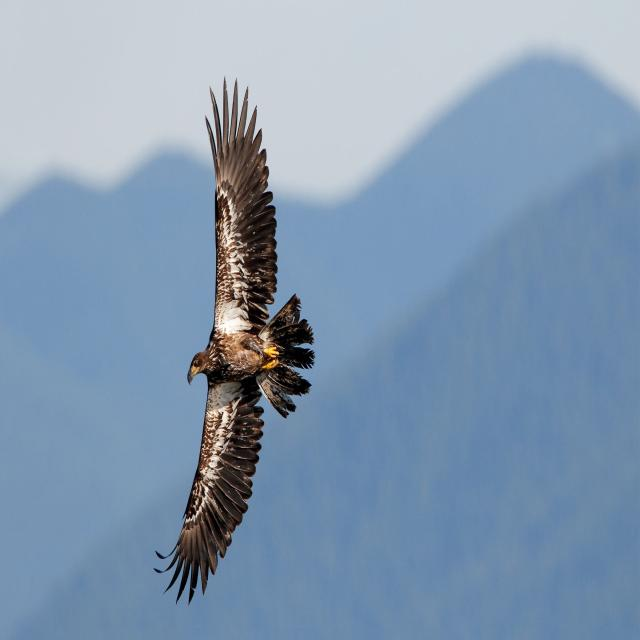Eagle: (156, 75, 320, 608)
